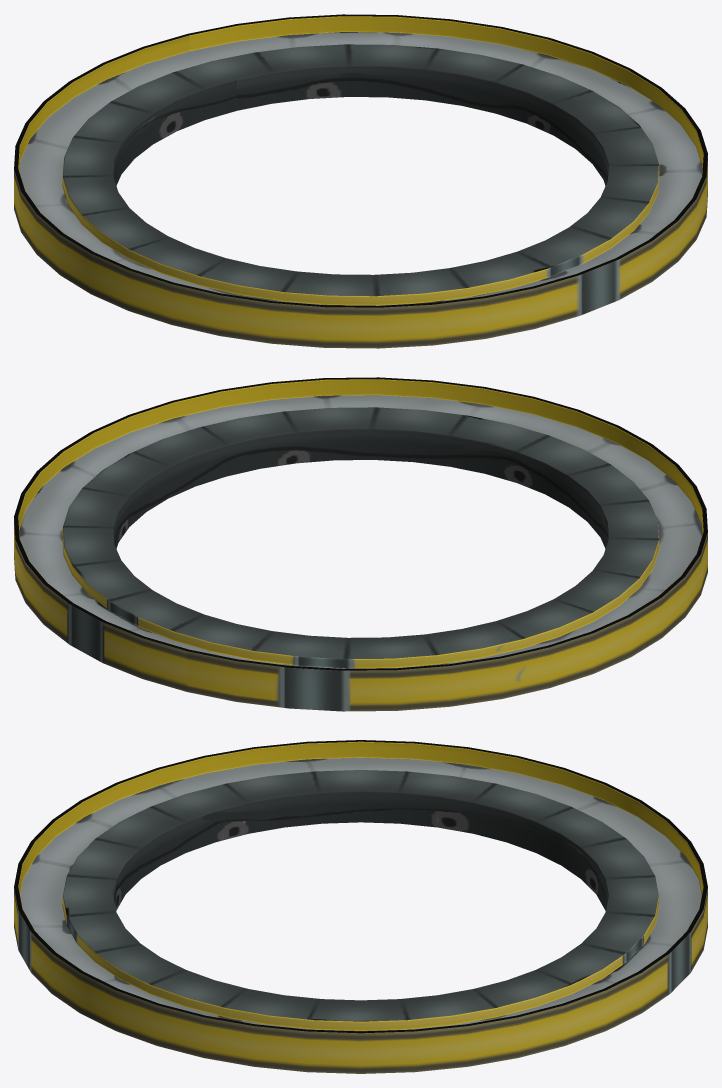
The model's file is ConveyorBelt.fbx.
The picture shows the model from 3 angles, top to bottom: view 1: azimuth 30°, elevation 25°; view 2: azimuth 150°, elevation 25°; view 3: azimuth 270°, elevation 25°; orthographic projection.
Visible parts, largest first — view 1: pPipe1; view 2: pPipe1; view 3: pPipe1.
Part boxes in pixels (bbox=[...]): pPipe1: bbox=[14, 14, 707, 348]; pPipe1: bbox=[14, 377, 707, 711]; pPipe1: bbox=[14, 740, 707, 1073].
Bounding box in the file's own units: 20.34 × 1.32 × 20.34.
